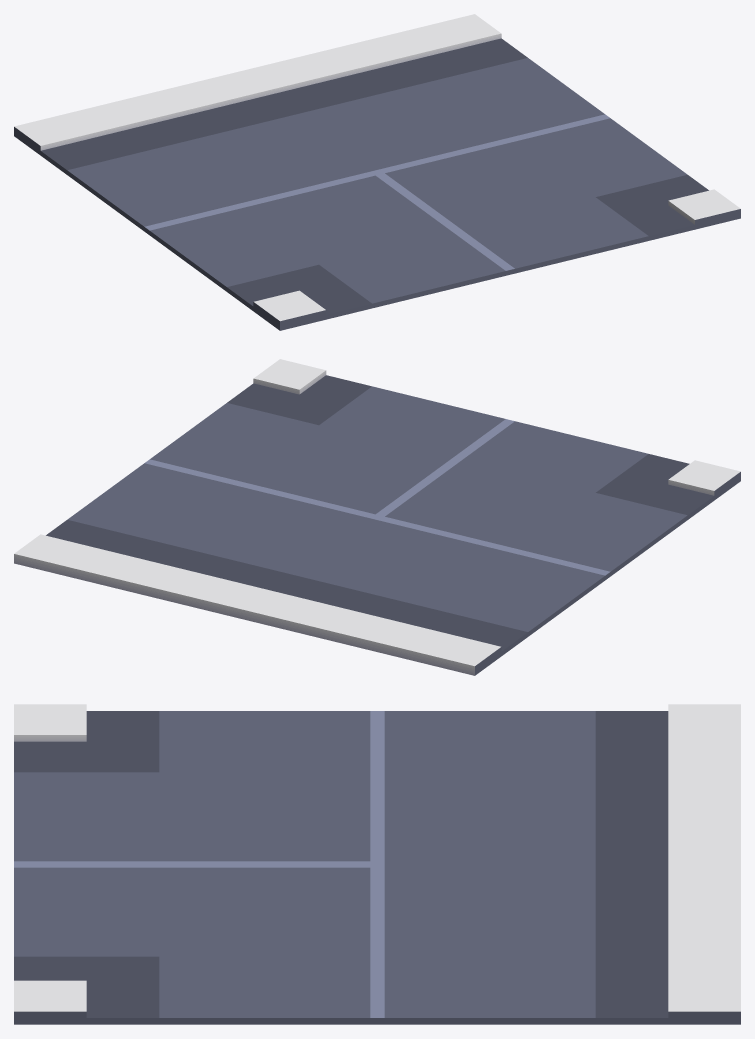
File: road-intersection-line.glb
3 views of the same model, one above another, from view 1: azimuth 30°, elevation 25°; view 2: azimuth 150°, elevation 25°; view 3: azimuth 270°, elevation 25° (orthographic). The views are drawn at different scales.
Visible parts, largest first — view 1: road-intersection-line; view 2: road-intersection-line; view 3: road-intersection-line.
Boxes of the visible parts, left/top/right/bottom form: road-intersection-line: left=14, top=14, right=740, bottom=330; road-intersection-line: left=14, top=359, right=740, bottom=675; road-intersection-line: left=14, top=704, right=740, bottom=1024.
Size of the model in its own units: 1 by 0.02 by 1.
1 material, 1 textured.
